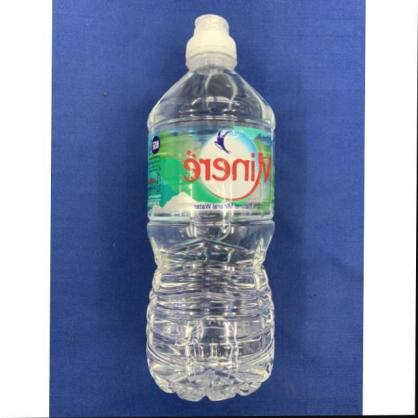bottle: (145, 13, 280, 402)
cap: (184, 12, 239, 68)
label: (149, 126, 274, 224)
